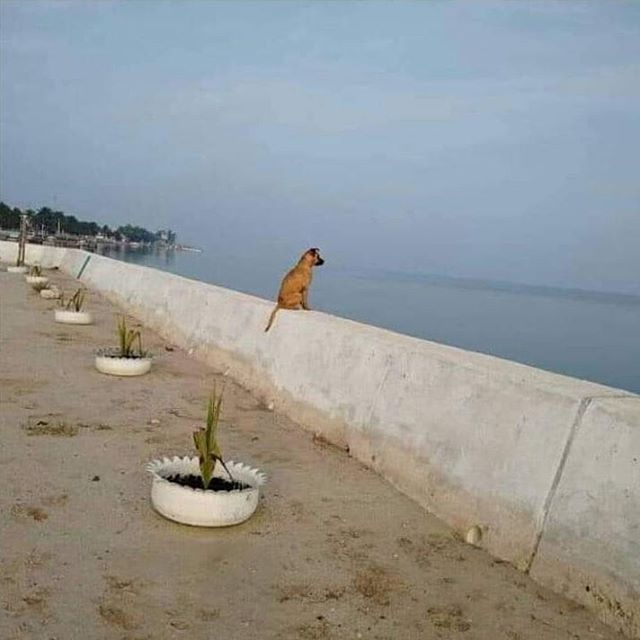animal: (265, 236, 342, 316)
sea: (131, 250, 640, 395)
sky: (1, 1, 640, 226)
